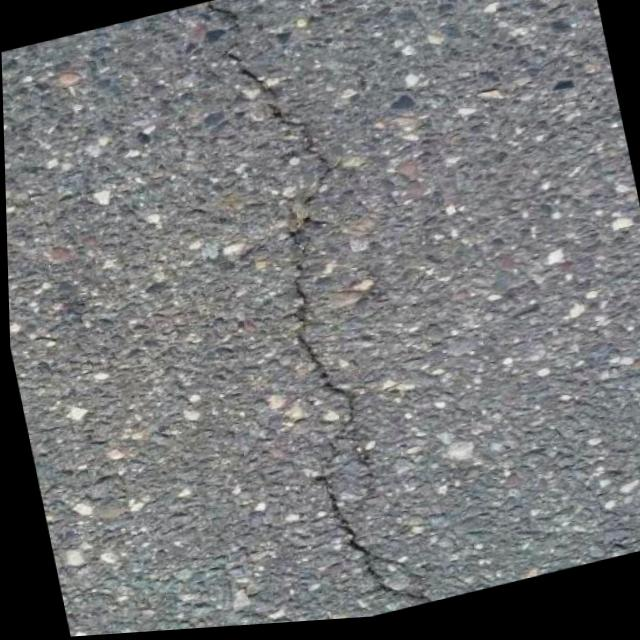Crack: (189, 0, 468, 630)
